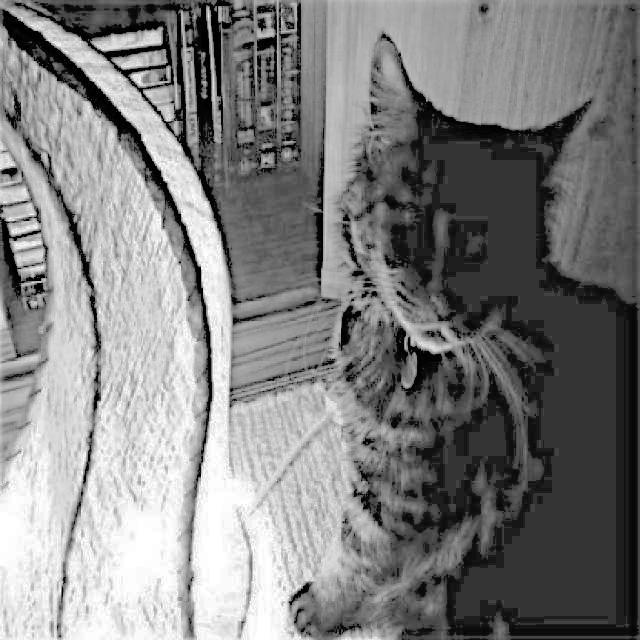Cat: (291, 17, 640, 640)
